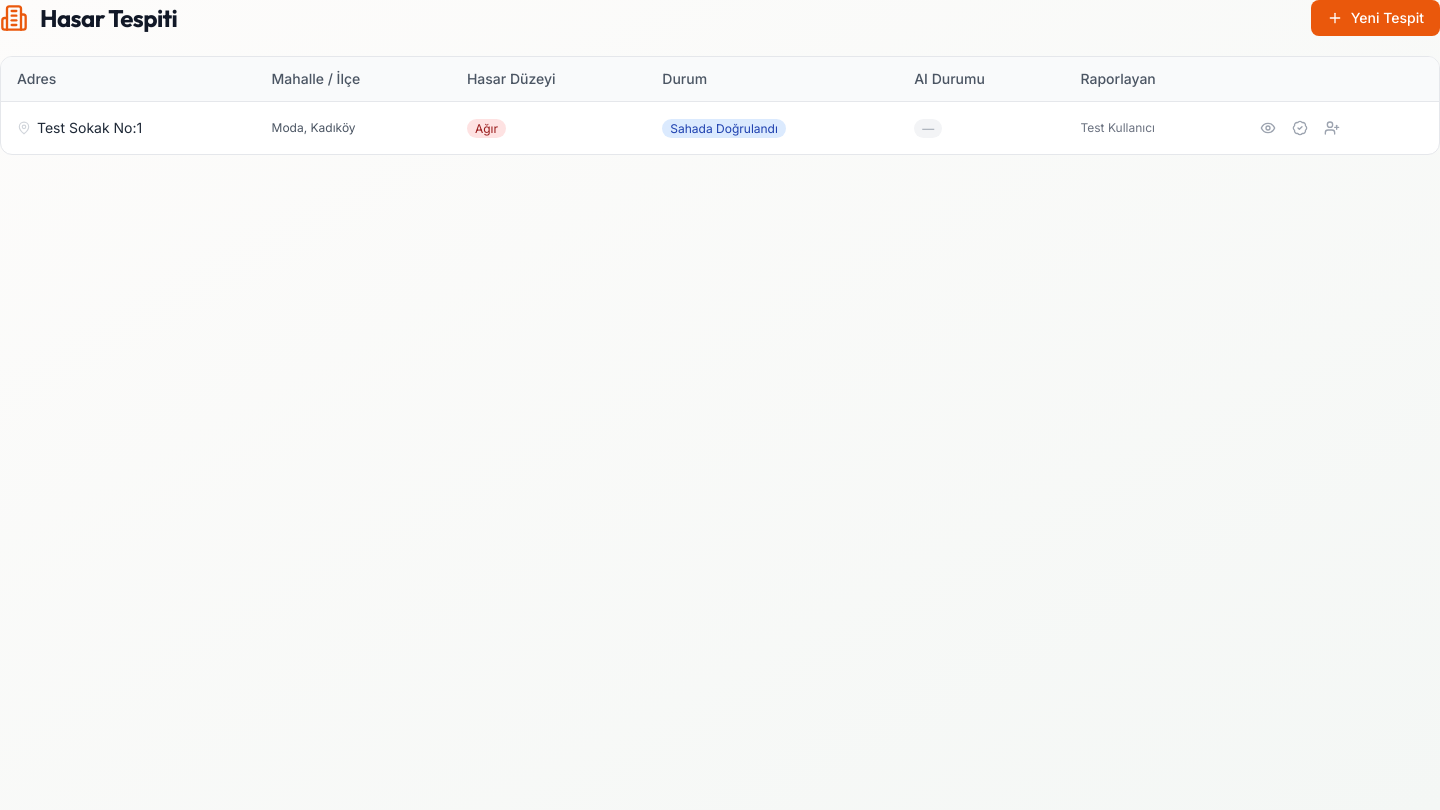
Test: DamageAssessmentsPage (post-refactor) › opens the detail modal (DamageAssessmentDetail) when the row detail button is clicked
Expected: the text "Test Sokak No:1" is shown, [37,118,142,138]
Click the button named "detayları gör". click: [1268, 128]
box: [1254,114,1282,142]
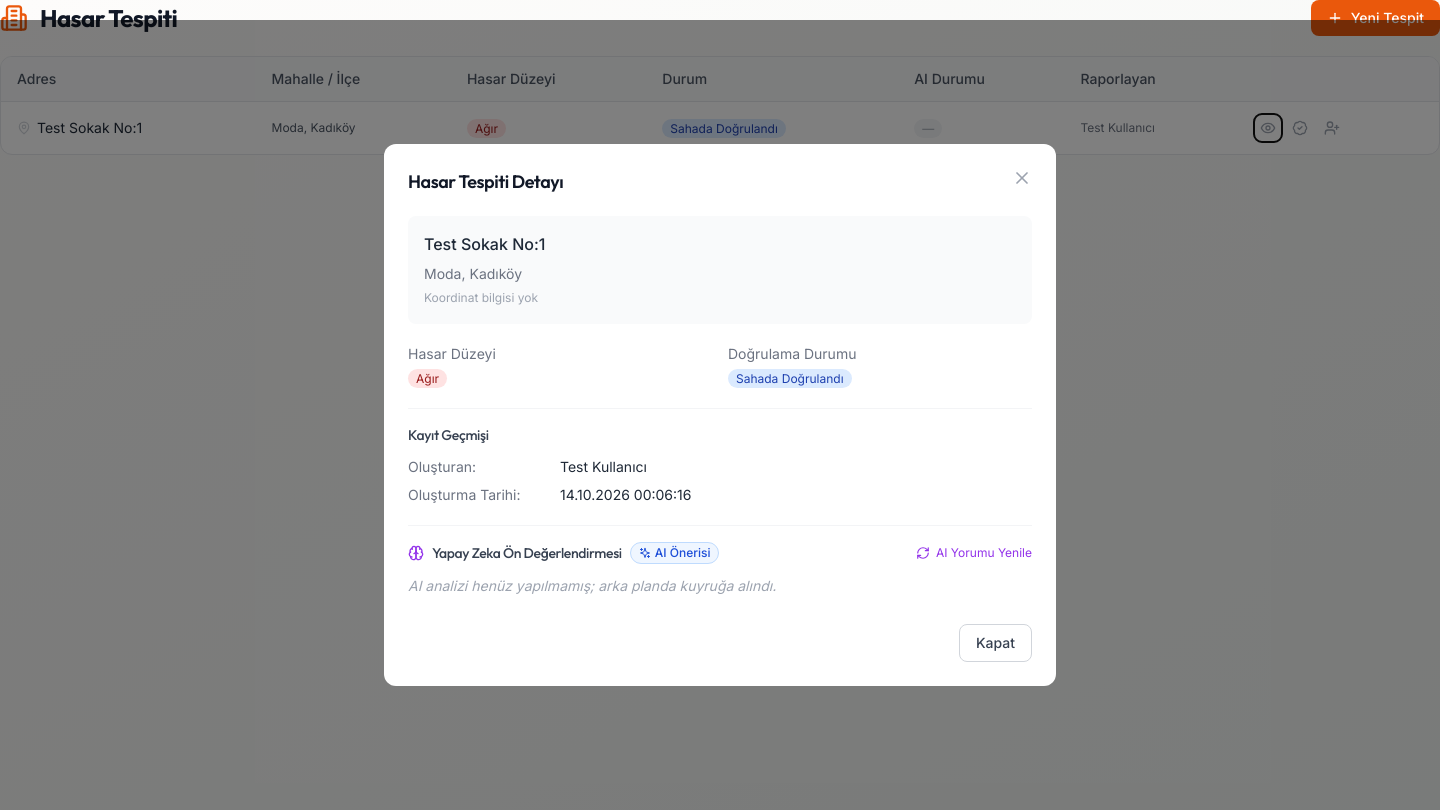
Expected: the text "Test Kullanıcı" is shown, [1064,102,1238,154]
Now the heading "Hasar Tespiti Detayı" is shown, box [408,168,563,196]
